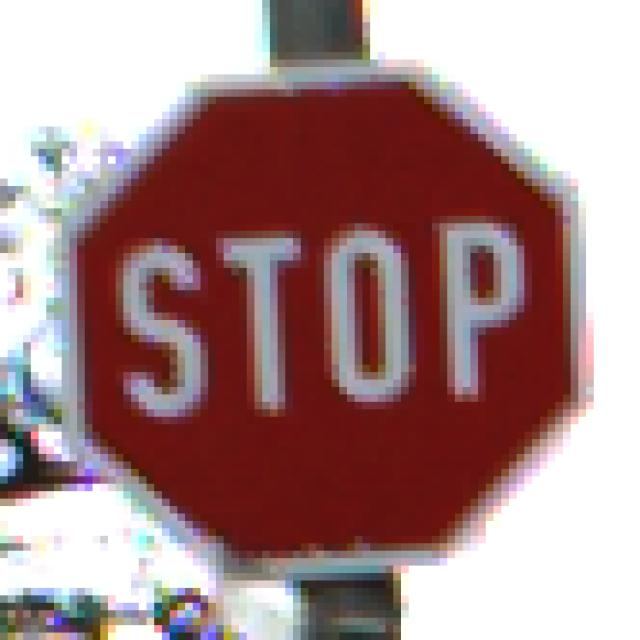STOP: (55, 61, 587, 582)
